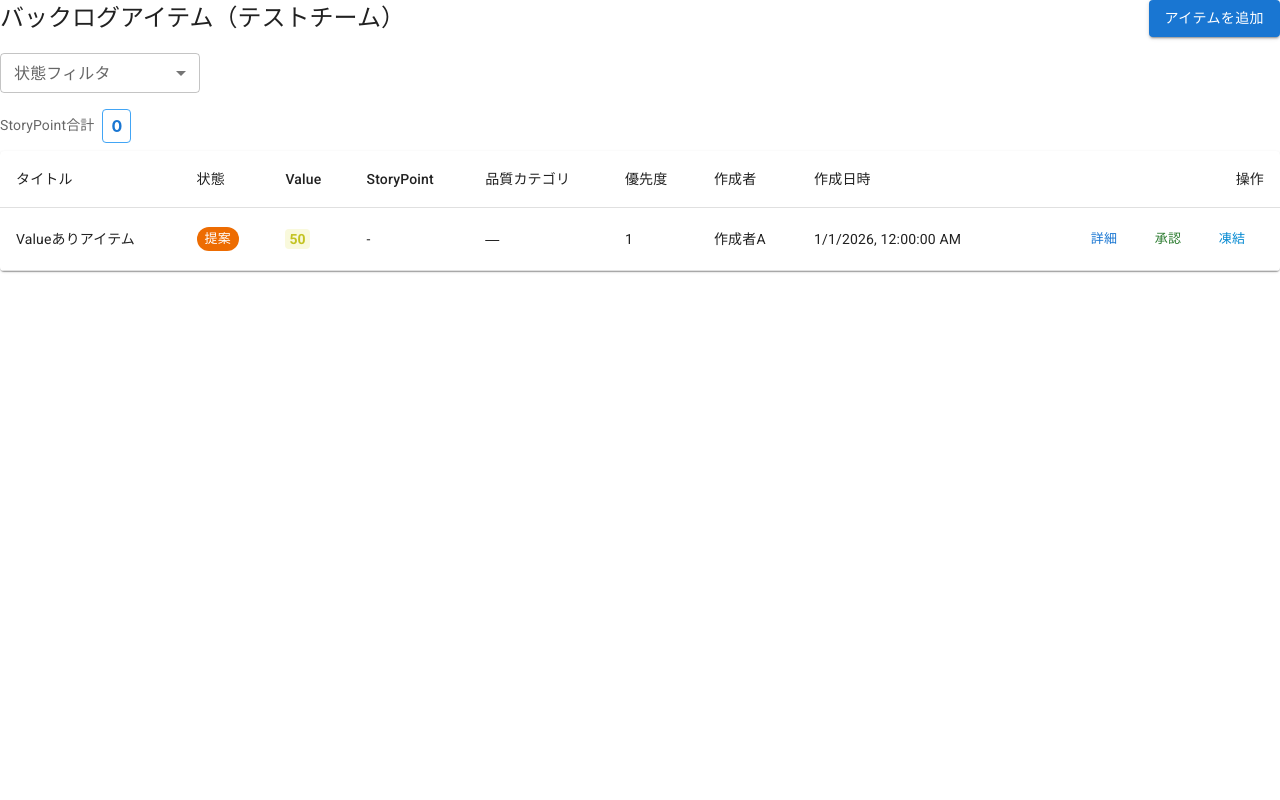
it: BacklogItemList › 自動リフレッシュ › confirmTarget が設定されている場合はリフレッシュがスキップされる
The image size is (1280, 800).
Click the button "承認" at x=1168, y=239, box [1136,224,1200,254]
Wait 30000 ms
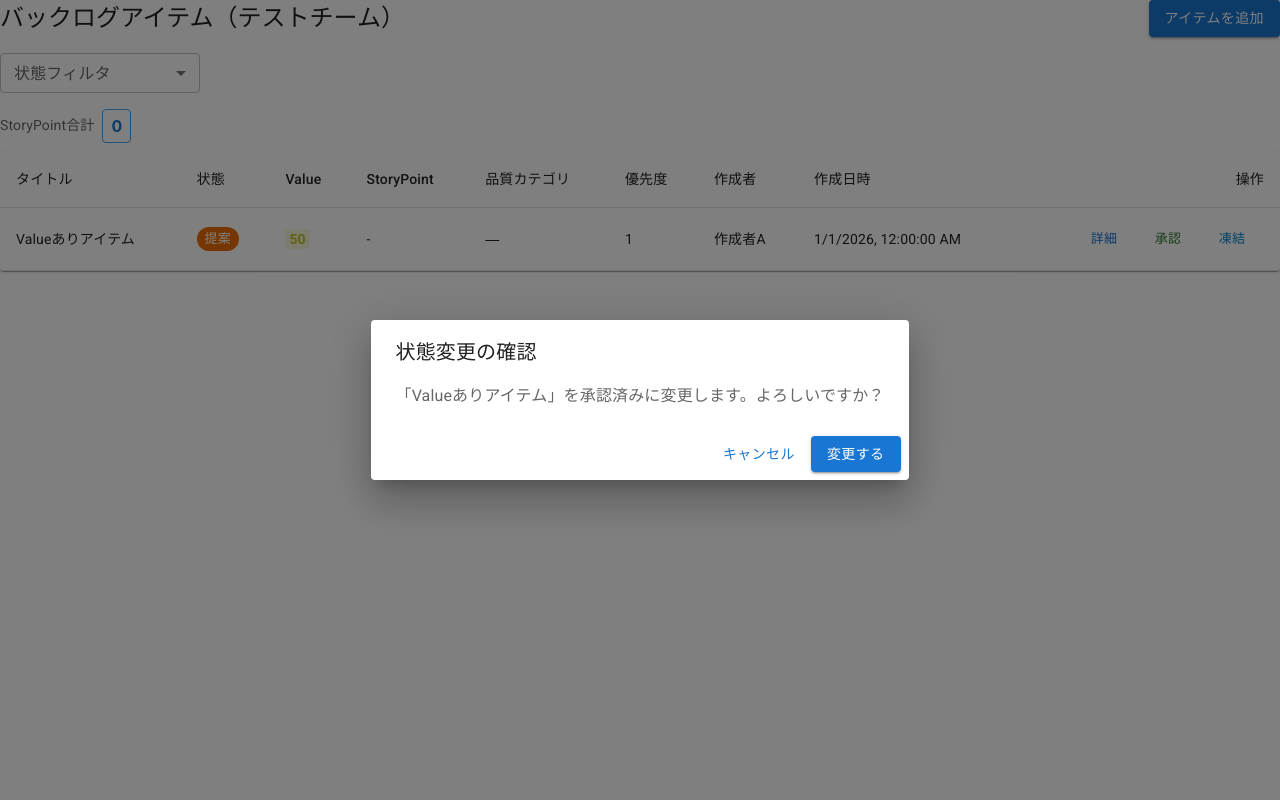
Expected: the dialog is shown, [372,320,908,480]
